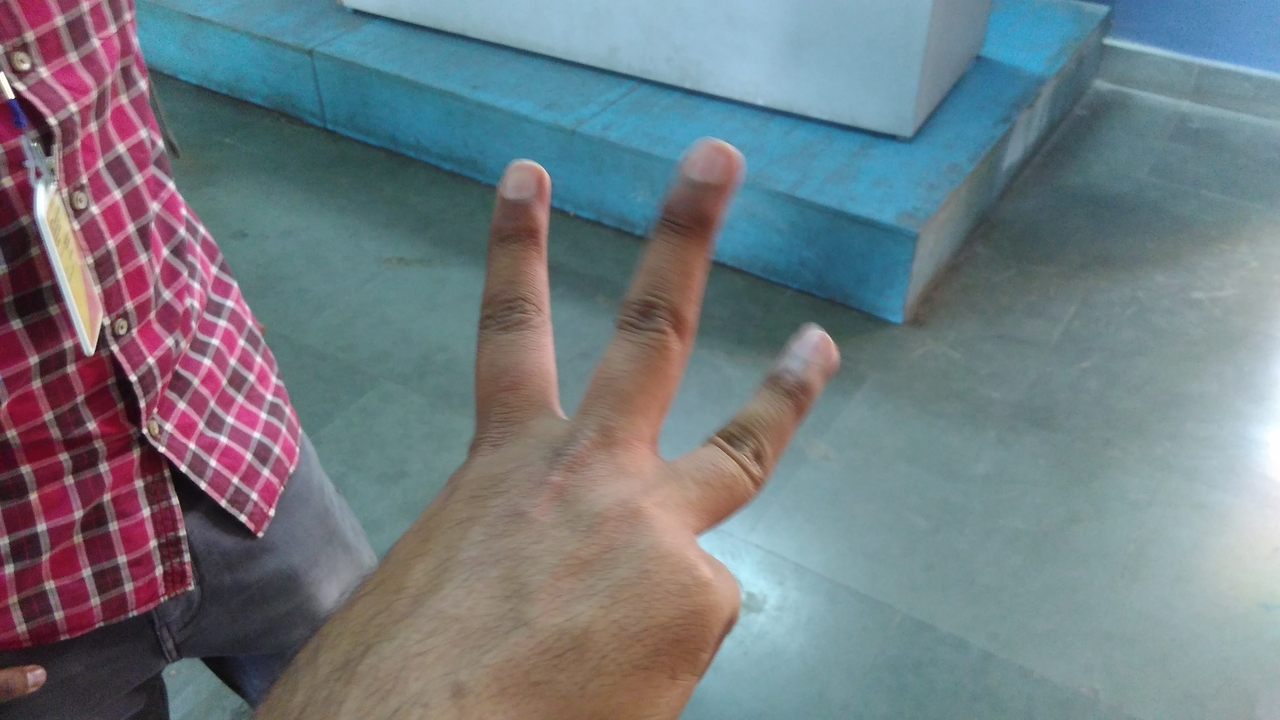fingertip: (668, 132, 752, 196), (486, 152, 558, 212), (780, 322, 854, 378)
